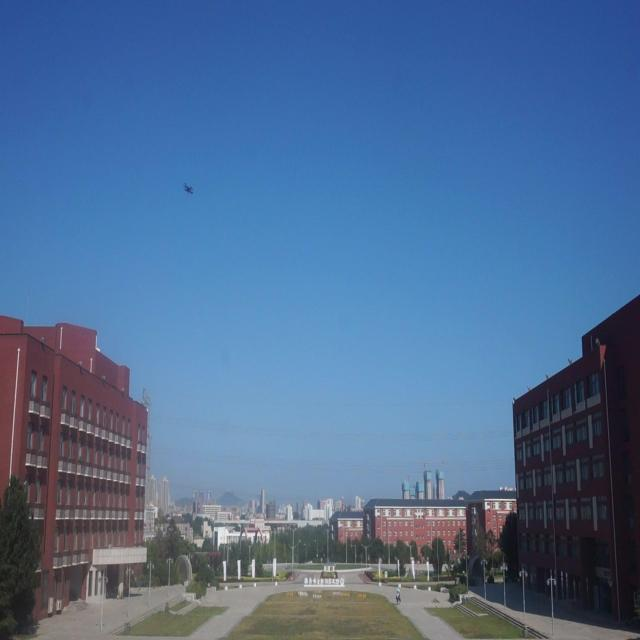drone: (181, 177, 196, 200)
